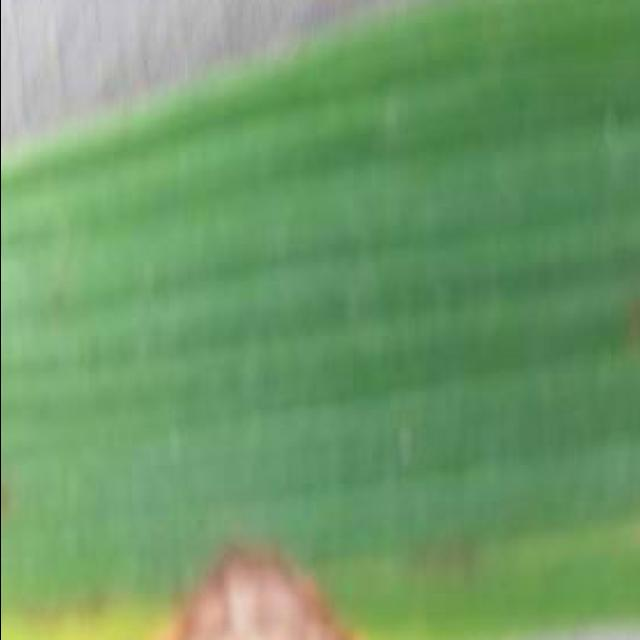Leaf_Blast: (115, 520, 398, 640)
